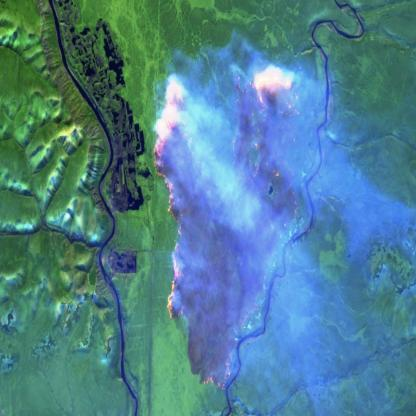fire: (152, 60, 308, 394)
